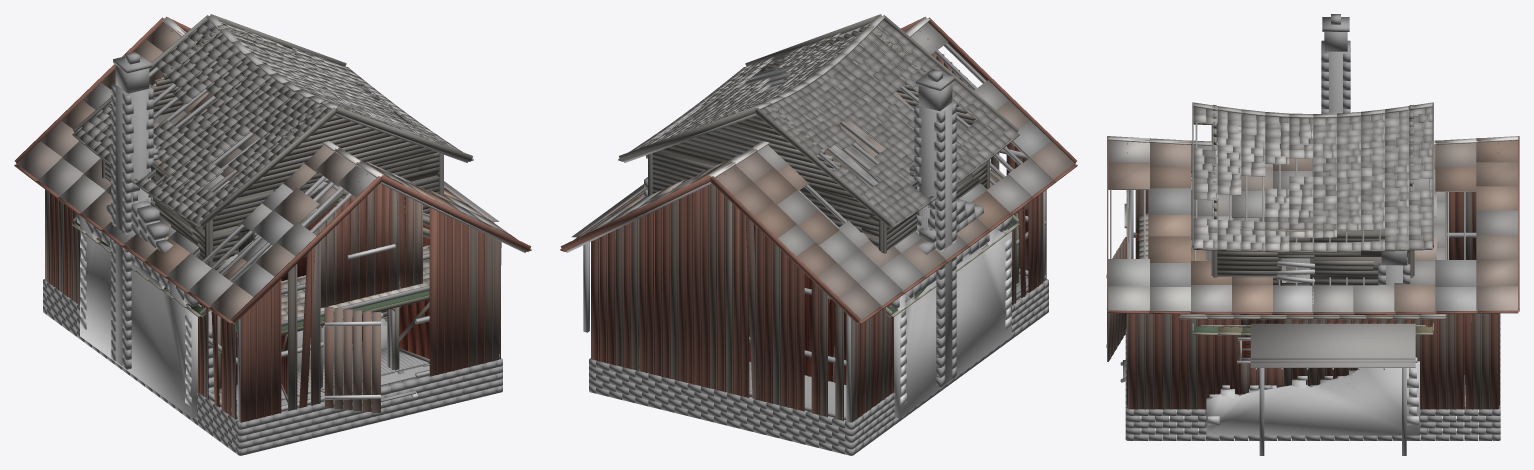
Rendered from places.glb.
The picture shows the model from 3 angles, left to right: view 1: azimuth 30°, elevation 25°; view 2: azimuth 150°, elevation 25°; view 3: azimuth 270°, elevation 25°; orthographic projection. The views are drawn at different scales.
Parts seen in each view (by area): view 1: barn, ghost_house, house_ruin_big__far, garage, house_ruin_big, ranger, cabin_trapper; view 2: barn, ghost_house, house_ruin_big__far, garage, house_ruin_big, ranger; view 3: barn, ghost_house, garage, house_ruin_big__far, house_ruin_big, ranger, cabin_trapper.
Part boxes in pixels (left/top/right/bottom): barn: left=14, top=16, right=531, bottom=455; ghost_house: left=72, top=14, right=473, bottom=392; house_ruin_big__far: left=77, top=208, right=387, bottom=417; garage: left=159, top=159, right=499, bottom=402; house_ruin_big: left=77, top=201, right=387, bottom=418; ranger: left=72, top=197, right=429, bottom=405; cabin_trapper: left=133, top=147, right=429, bottom=397; barn: left=560, top=16, right=1077, bottom=455; ghost_house: left=618, top=14, right=1019, bottom=386; house_ruin_big__far: left=644, top=189, right=1011, bottom=418; garage: left=572, top=145, right=1001, bottom=384; house_ruin_big: left=644, top=155, right=1011, bottom=406; ranger: left=886, top=204, right=1028, bottom=317; barn: left=1106, top=136, right=1519, bottom=440; ghost_house: left=1192, top=14, right=1433, bottom=438; garage: left=1136, top=176, right=1446, bottom=455; house_ruin_big__far: left=1205, top=250, right=1427, bottom=435; house_ruin_big: left=1198, top=240, right=1428, bottom=425; ranger: left=1120, top=219, right=1433, bottom=382; cabin_trapper: left=1122, top=112, right=1425, bottom=418.
Bounding box in the file's own units: 13.26 × 11.91 × 14.51.
